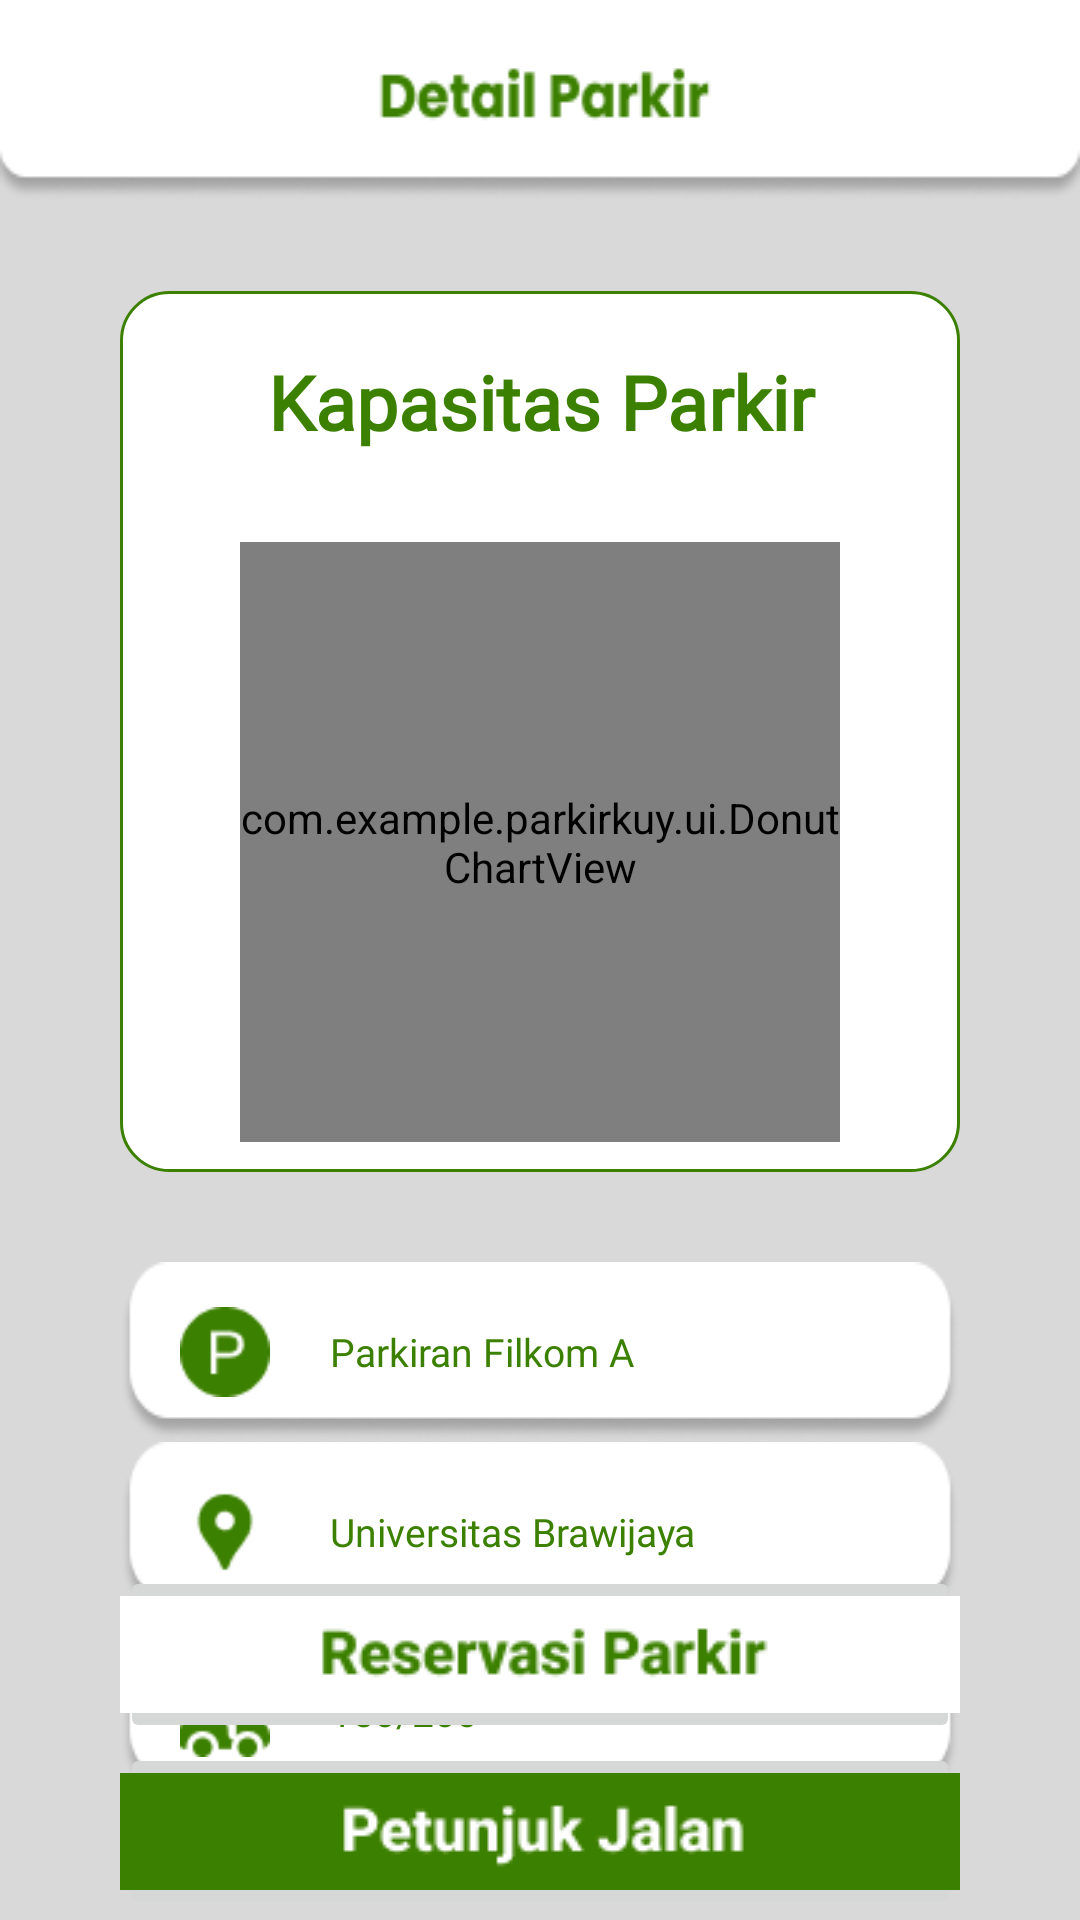

Point at icon controls on the screen. Image size 1080×1920, points as [x,y].
location on: [225,1531]
